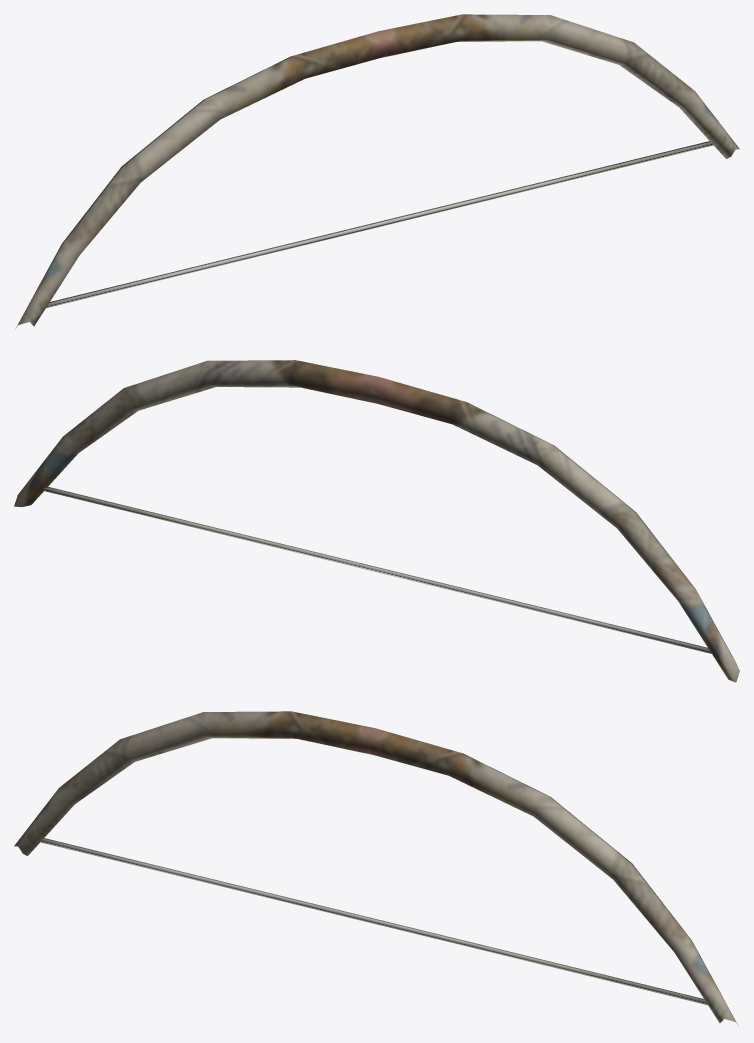
Rendered from paperBow.glb.
The picture shows the model from 3 angles, top to bottom: view 1: azimuth 30°, elevation 25°; view 2: azimuth 150°, elevation 25°; view 3: azimuth 330°, elevation 25°; orthographic projection.
Parts seen in each view (by area): view 1: paperBow; view 2: paperBow; view 3: paperBow.
Part boxes in pixels (x1,y1,x2,y2): paperBow: (15, 14, 739, 328); paperBow: (14, 360, 739, 682); paperBow: (14, 711, 738, 1025).
Bounding box in the file's own units: 1.25 × 0.3568 × 0.0393.
Materials: 1 (1 with a texture image).
